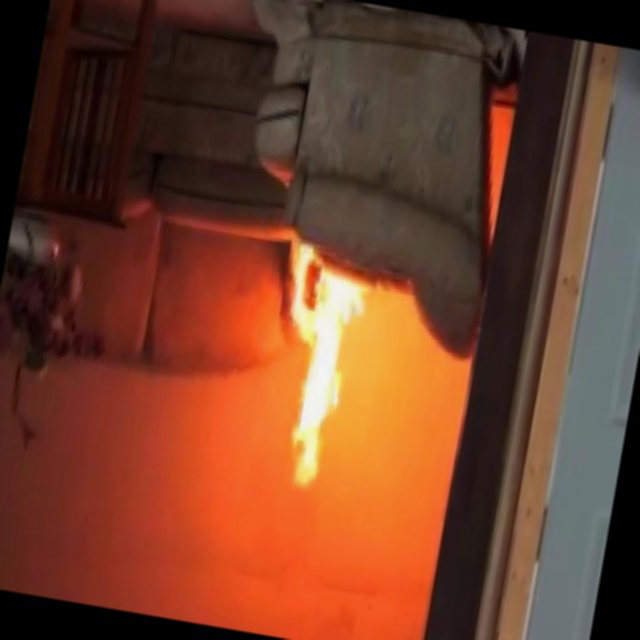fire: (261, 251, 384, 501)
